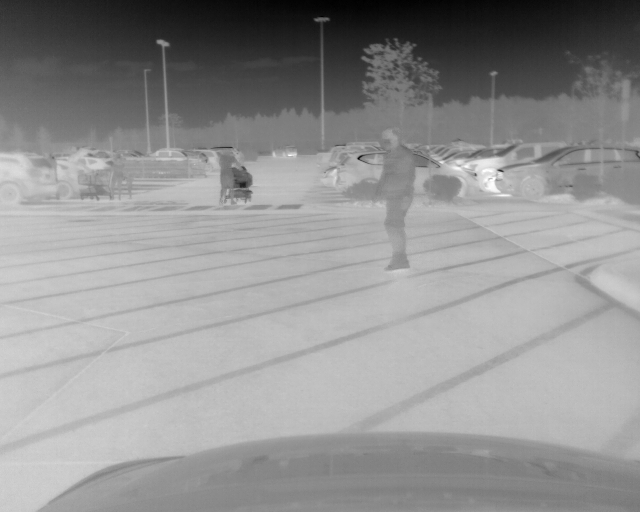car: (493, 143, 640, 202), (335, 150, 479, 199), (464, 140, 578, 192), (1, 151, 61, 207), (56, 156, 93, 201), (148, 148, 208, 165), (199, 148, 241, 171), (273, 145, 298, 159)
people: (373, 126, 414, 272), (216, 147, 237, 206), (109, 153, 126, 203), (122, 154, 134, 202)
